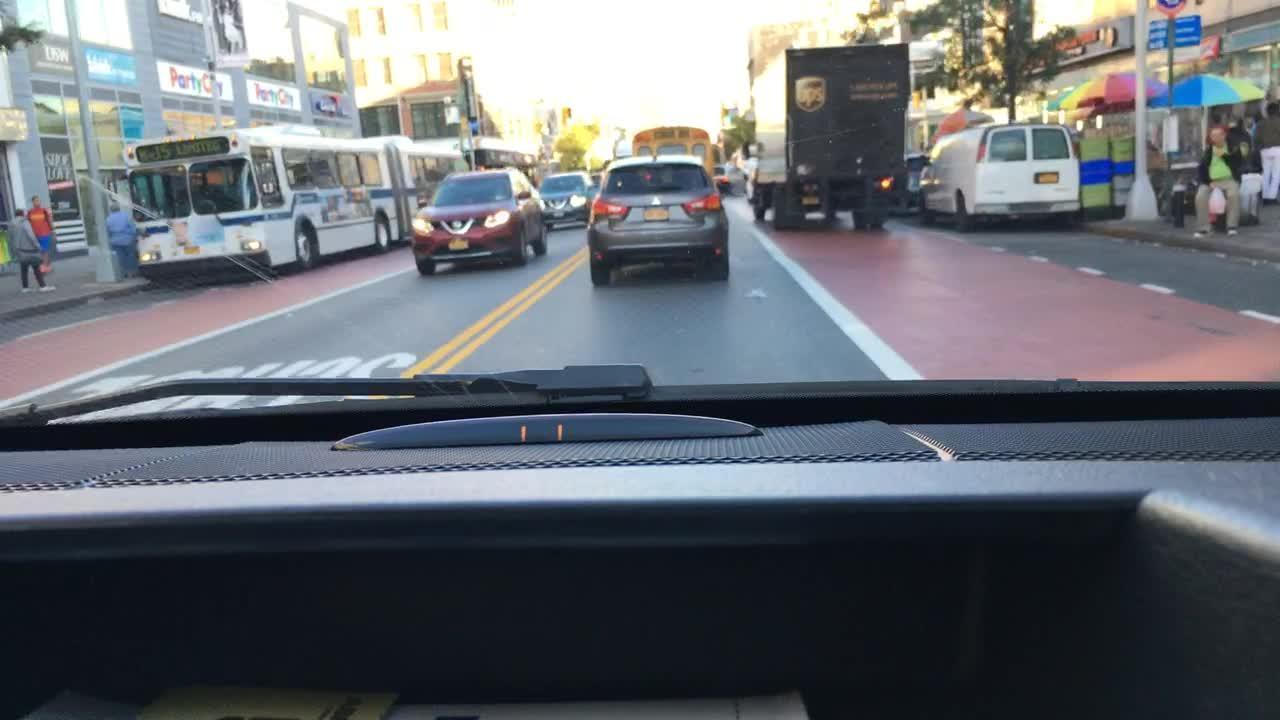Mitsubishi: (648, 193, 665, 210)
